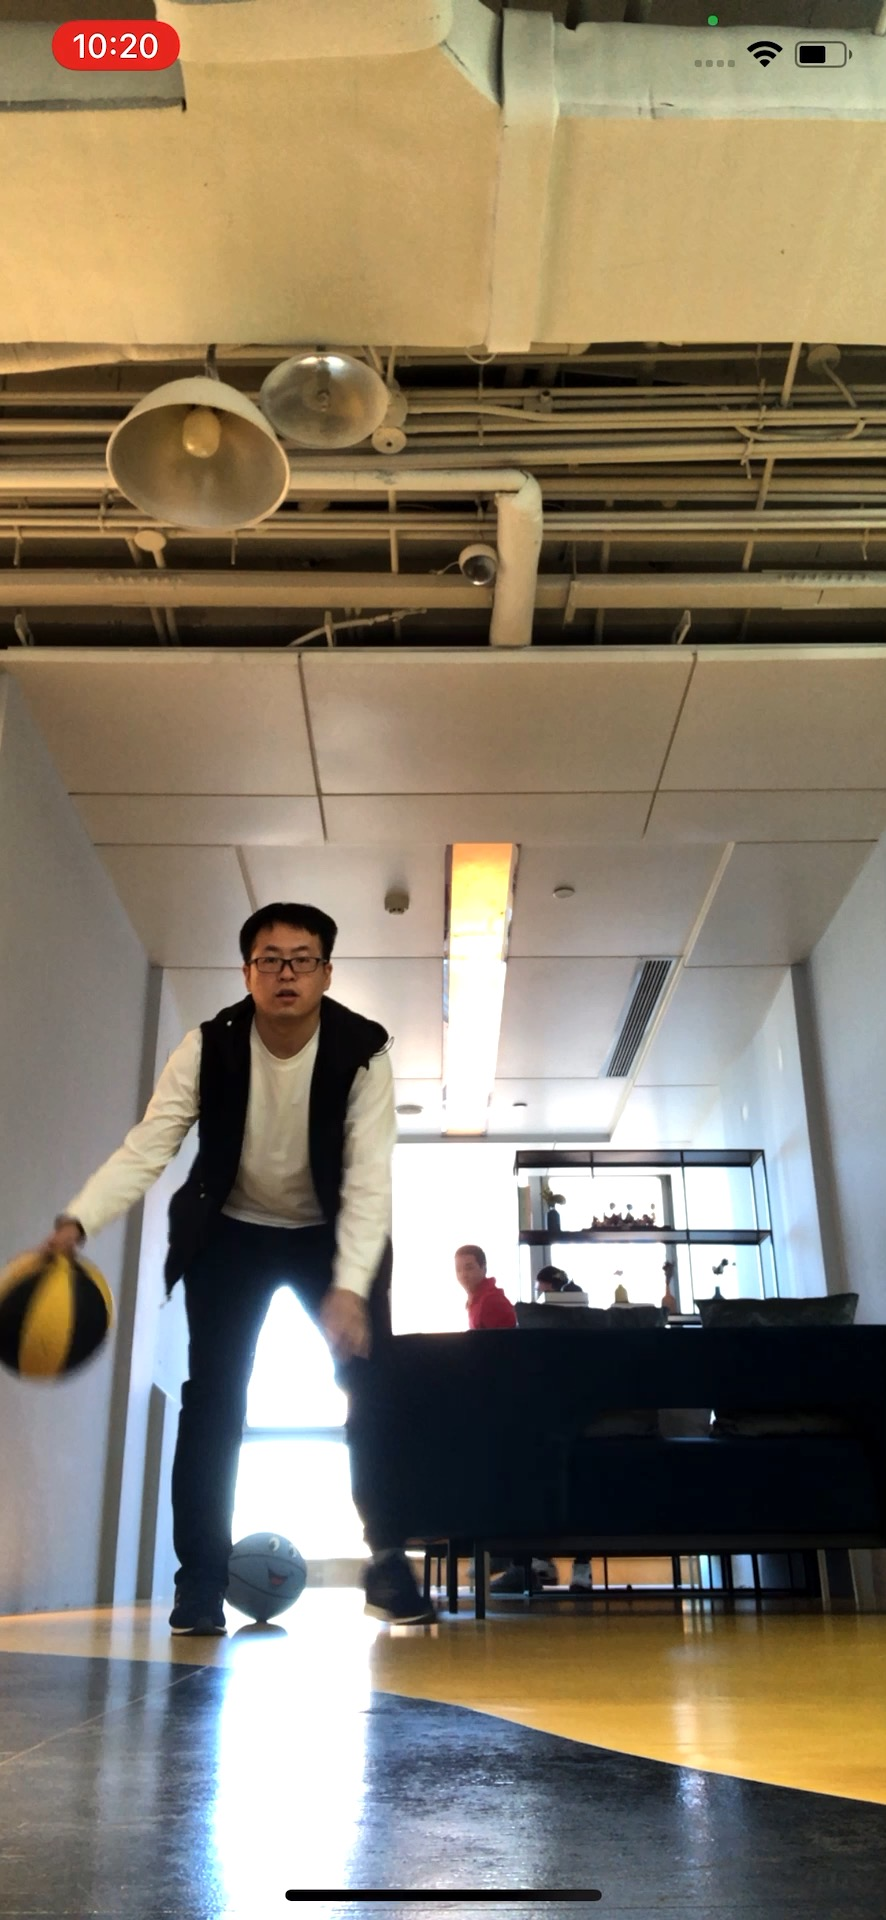ball: (4, 1243, 113, 1386), (226, 1536, 308, 1619)
